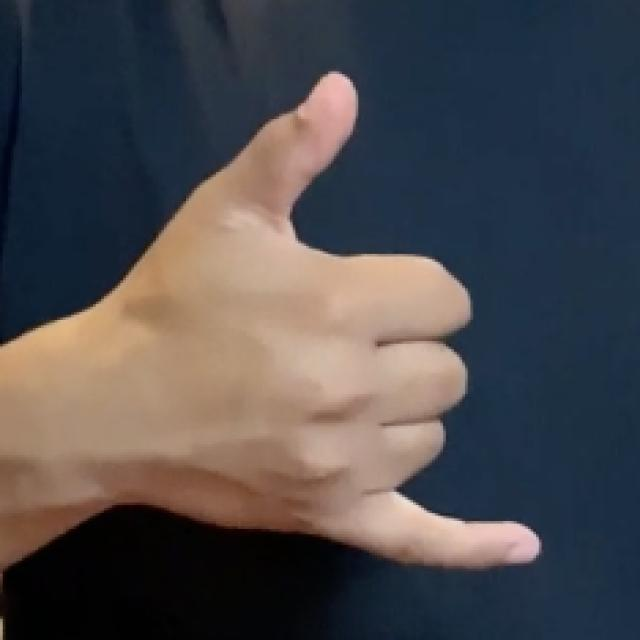Y: (49, 54, 546, 579)
